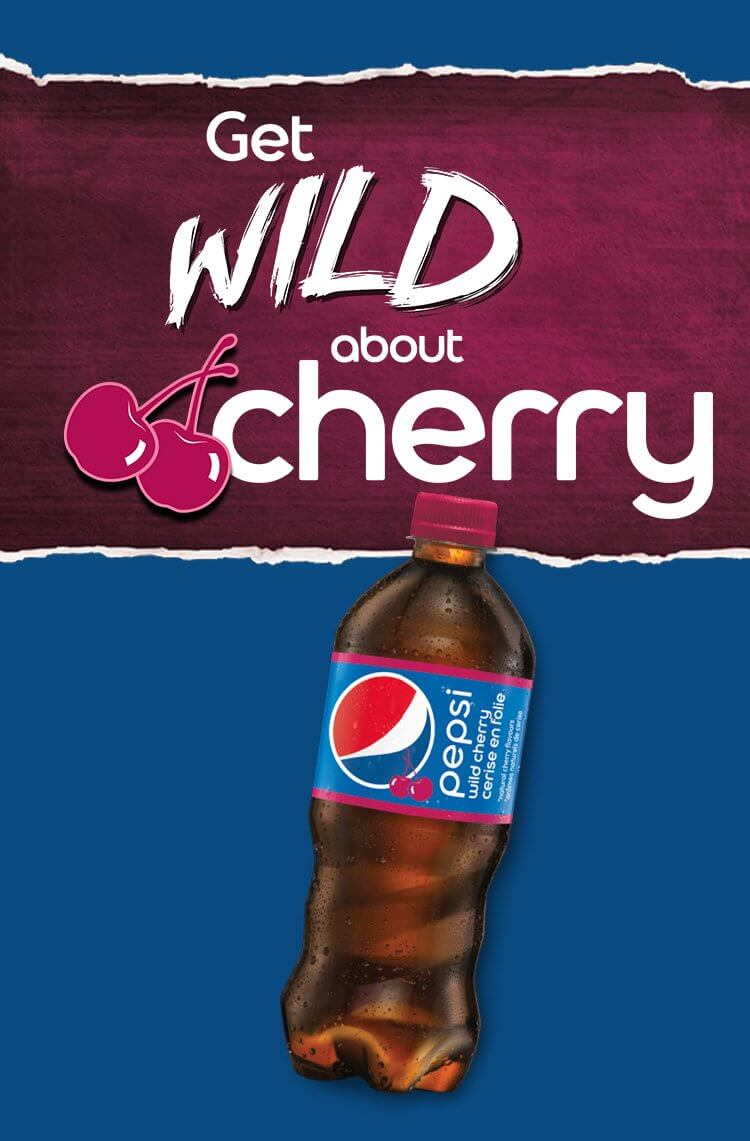pepsi: (330, 665, 443, 789), (330, 668, 443, 789), (330, 668, 434, 789)
